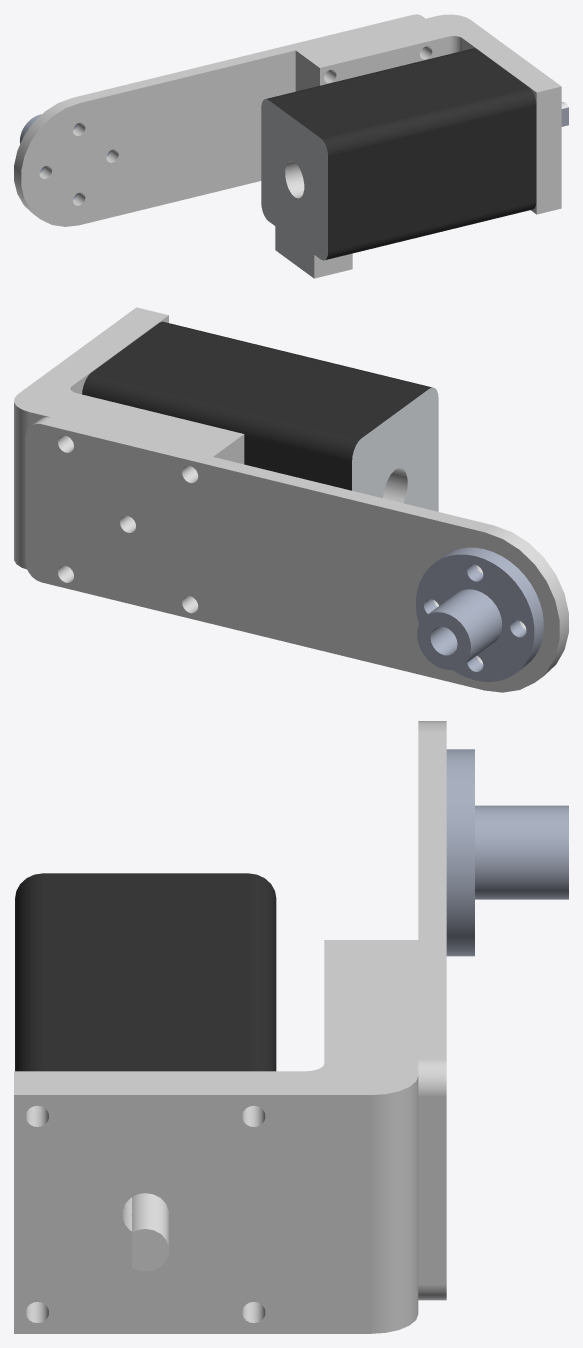
Rendered from axis4.fbx.
The picture shows the model from 3 angles, top to bottom: view 1: azimuth 30°, elevation 25°; view 2: azimuth 150°, elevation 25°; view 3: azimuth 270°, elevation 25°; orthographic projection. The views are drawn at different scales.
Parts seen in each view (by area): view 1: ÇÐ³ý-ÀÉì3, Ô²½Ç1, Ô²½Ç4; view 2: Ô²½Ç1, ÇÐ³ý-ÀÉì3, ÇÐ³ý-ÀÉì2, Ô²½Ç4; view 3: Ô²½Ç4, ÇÐ³ý-ÀÉì3, Ô²½Ç1, ÇÐ³ý-ÀÉì2.
Part boxes in pixels (x1,y1,x2,y2): ÇÐ³ý-ÀÉì3: (261,48,568,278); Ô²½Ç1: (14,14,425,226); Ô²½Ç4: (295,14,561,214); Ô²½Ç1: (25,417,568,692); ÇÐ³ý-ÀÉì3: (82,321,438,511); ÇÐ³ý-ÀÉì2: (416,547,543,681); Ô²½Ç4: (14,307,244,605); Ô²½Ç4: (14,940,418,1333); ÇÐ³ý-ÀÉì3: (15,873,276,1271); Ô²½Ç1: (418,721,446,1300); ÇÐ³ý-ÀÉì2: (446,749,568,956).
Bounding box in the file's own units: 4.48 × 1.31 × 2.32.
